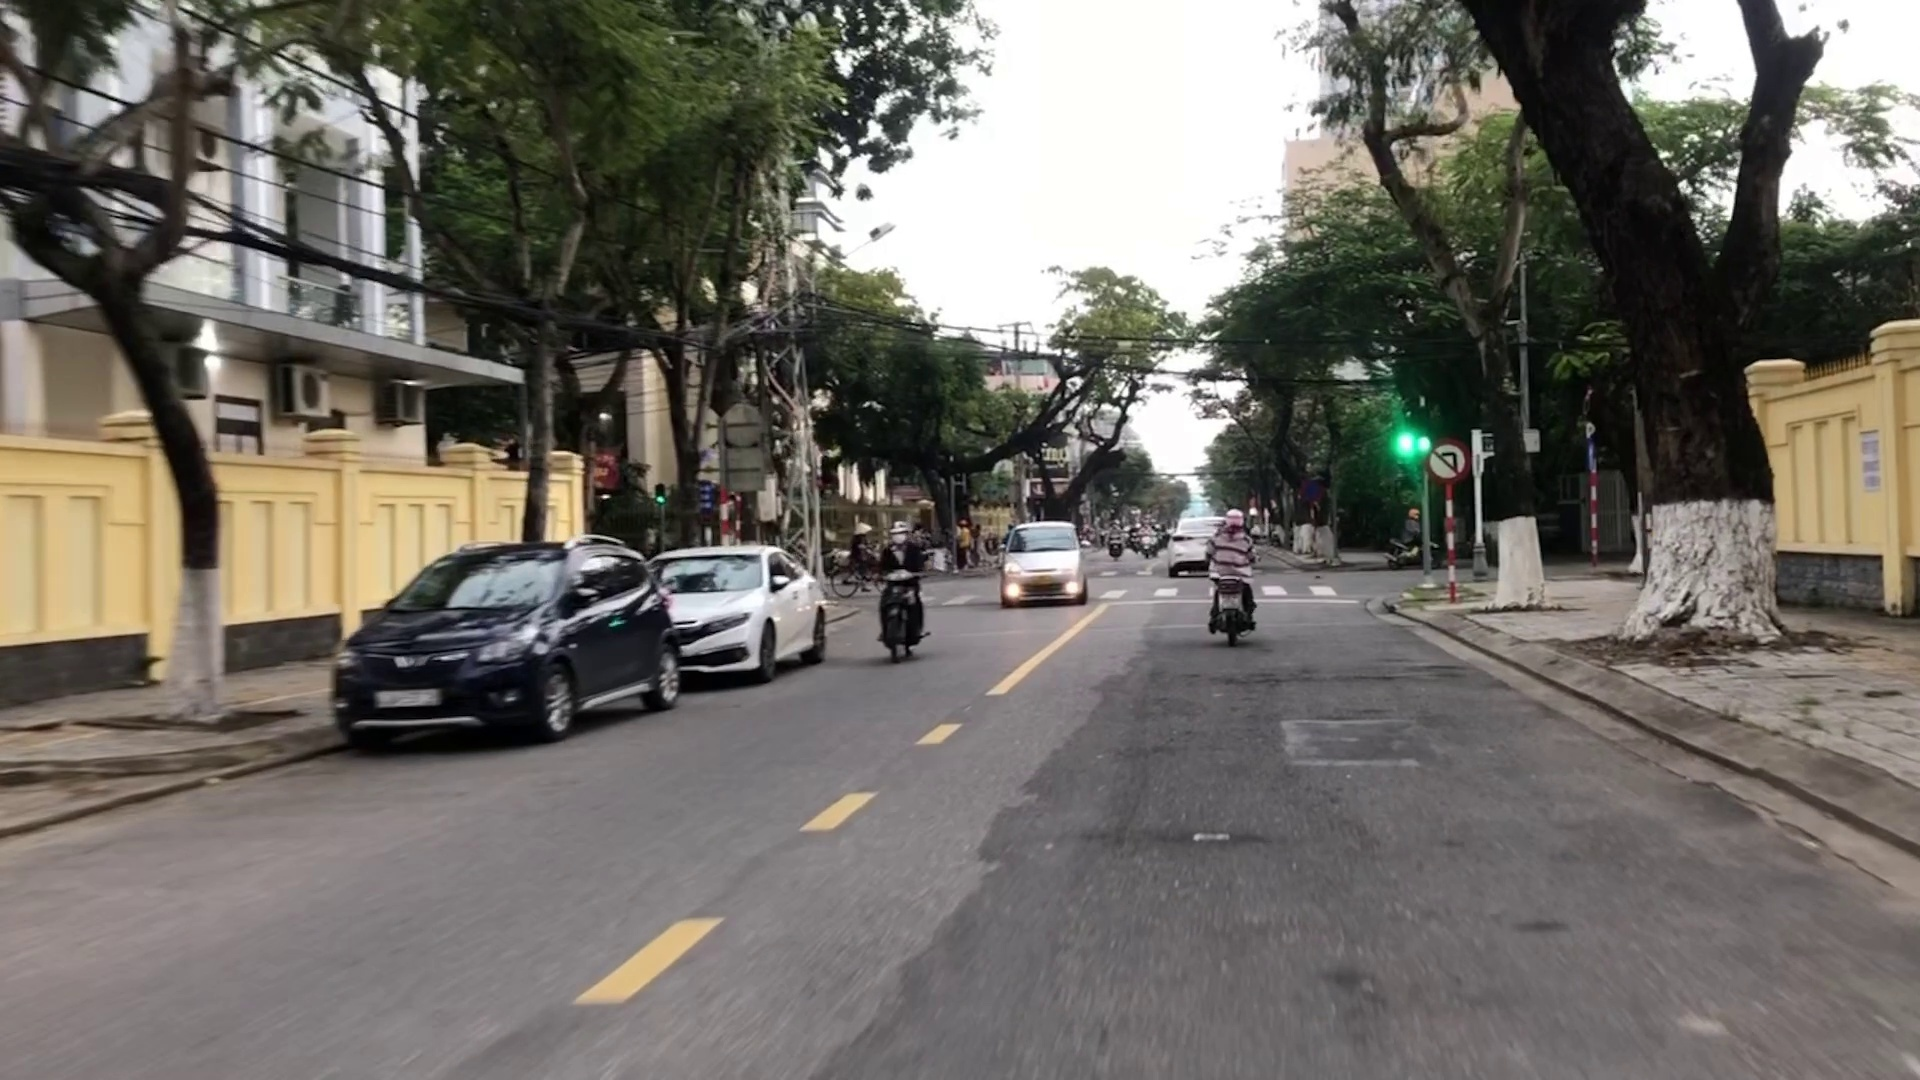Bien khac: (1425, 440, 1466, 487)
